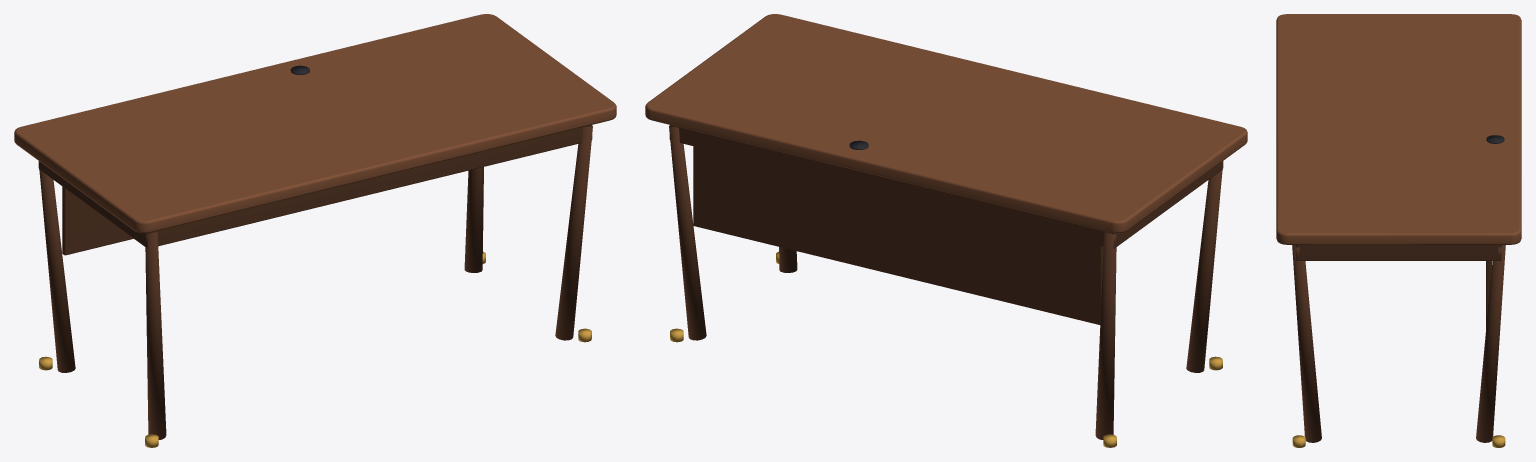
File: RmDesk.fbx
3 views of the same model, side by side, from view 1: azimuth 30°, elevation 25°; view 2: azimuth 150°, elevation 25°; view 3: azimuth 270°, elevation 25° (orthographic). The views are drawn at different scales.
Visible parts, largest first — view 1: RmDeskBody; view 2: RmDeskBody; view 3: RmDeskBody.
Boxes of the visible parts, box(x1,y1,x2,y2) form: RmDeskBody: box(14, 14, 616, 447); RmDeskBody: box(645, 14, 1247, 447); RmDeskBody: box(1276, 14, 1521, 447).
Bounding box in the file's own units: 1.6 × 0.7548 × 0.75.
